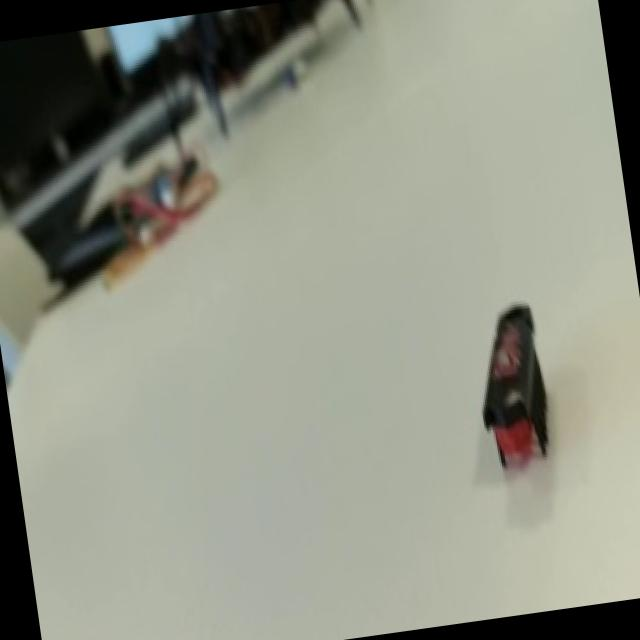2_NanoBug_Negro: (436, 274, 574, 508)
